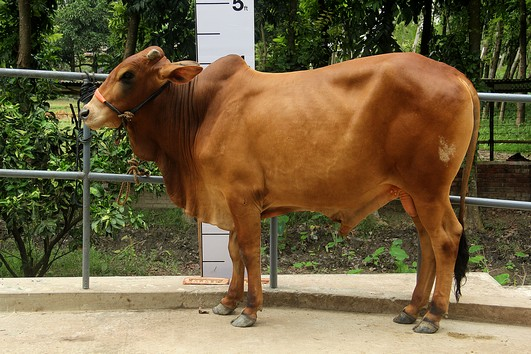cow: (71, 38, 480, 337)
